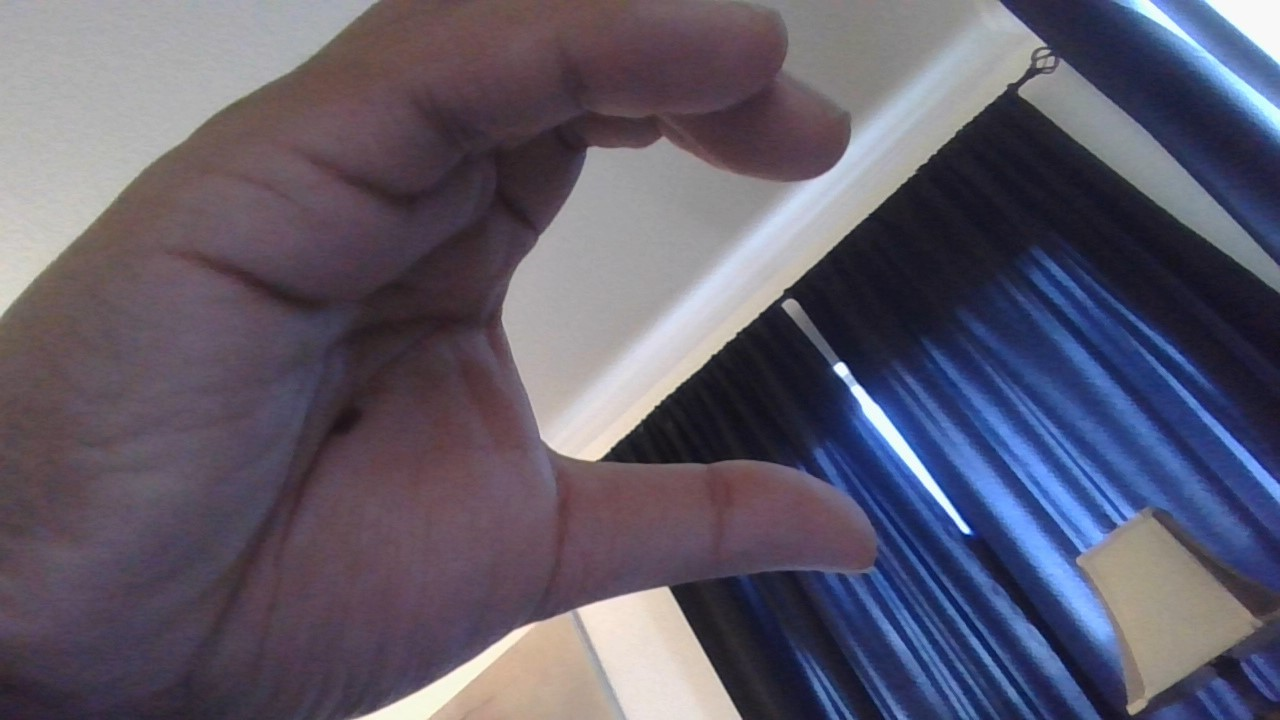c: (7, 1, 970, 717)
